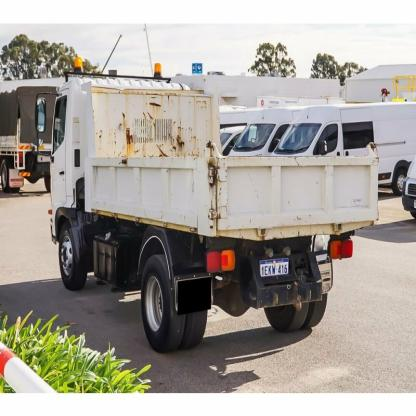dump_truck: (30, 58, 381, 368)
